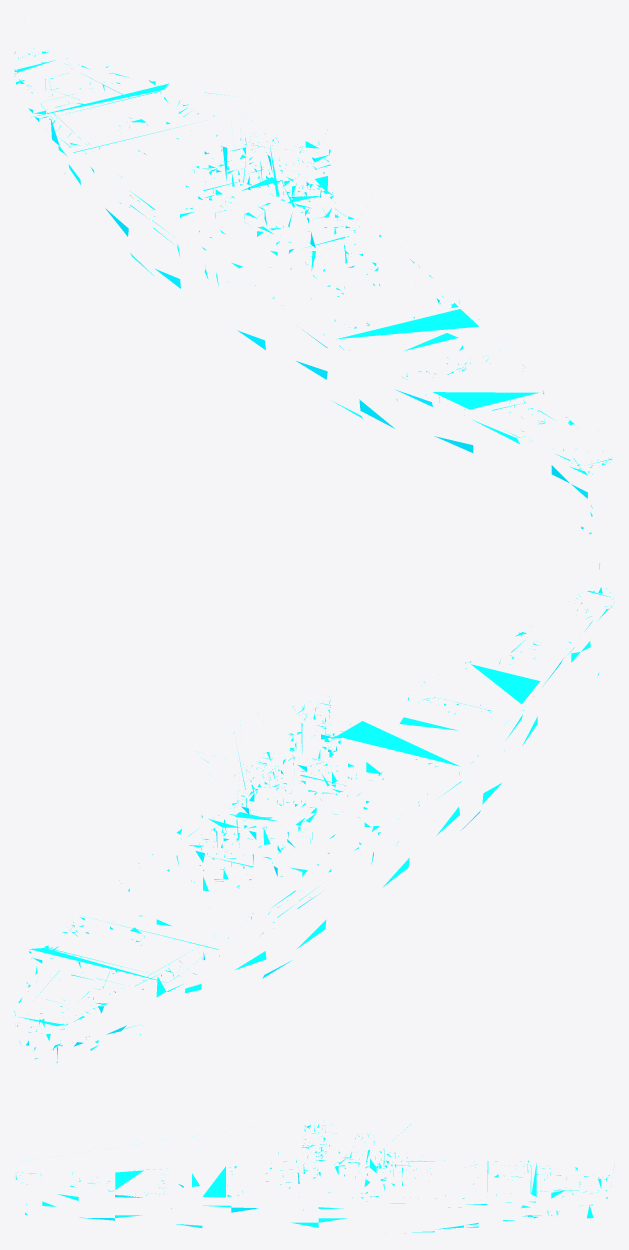
Rendered from Yamato.glb.
3 renders of one model, top to bottom at view 1: azimuth 30°, elevation 25°; view 2: azimuth 150°, elevation 25°; view 3: azimuth 270°, elevation 25°, orthographic. The views are drawn at different scales.
Size of the model in its own units: 2.72 by 3.52 by 17.63.
